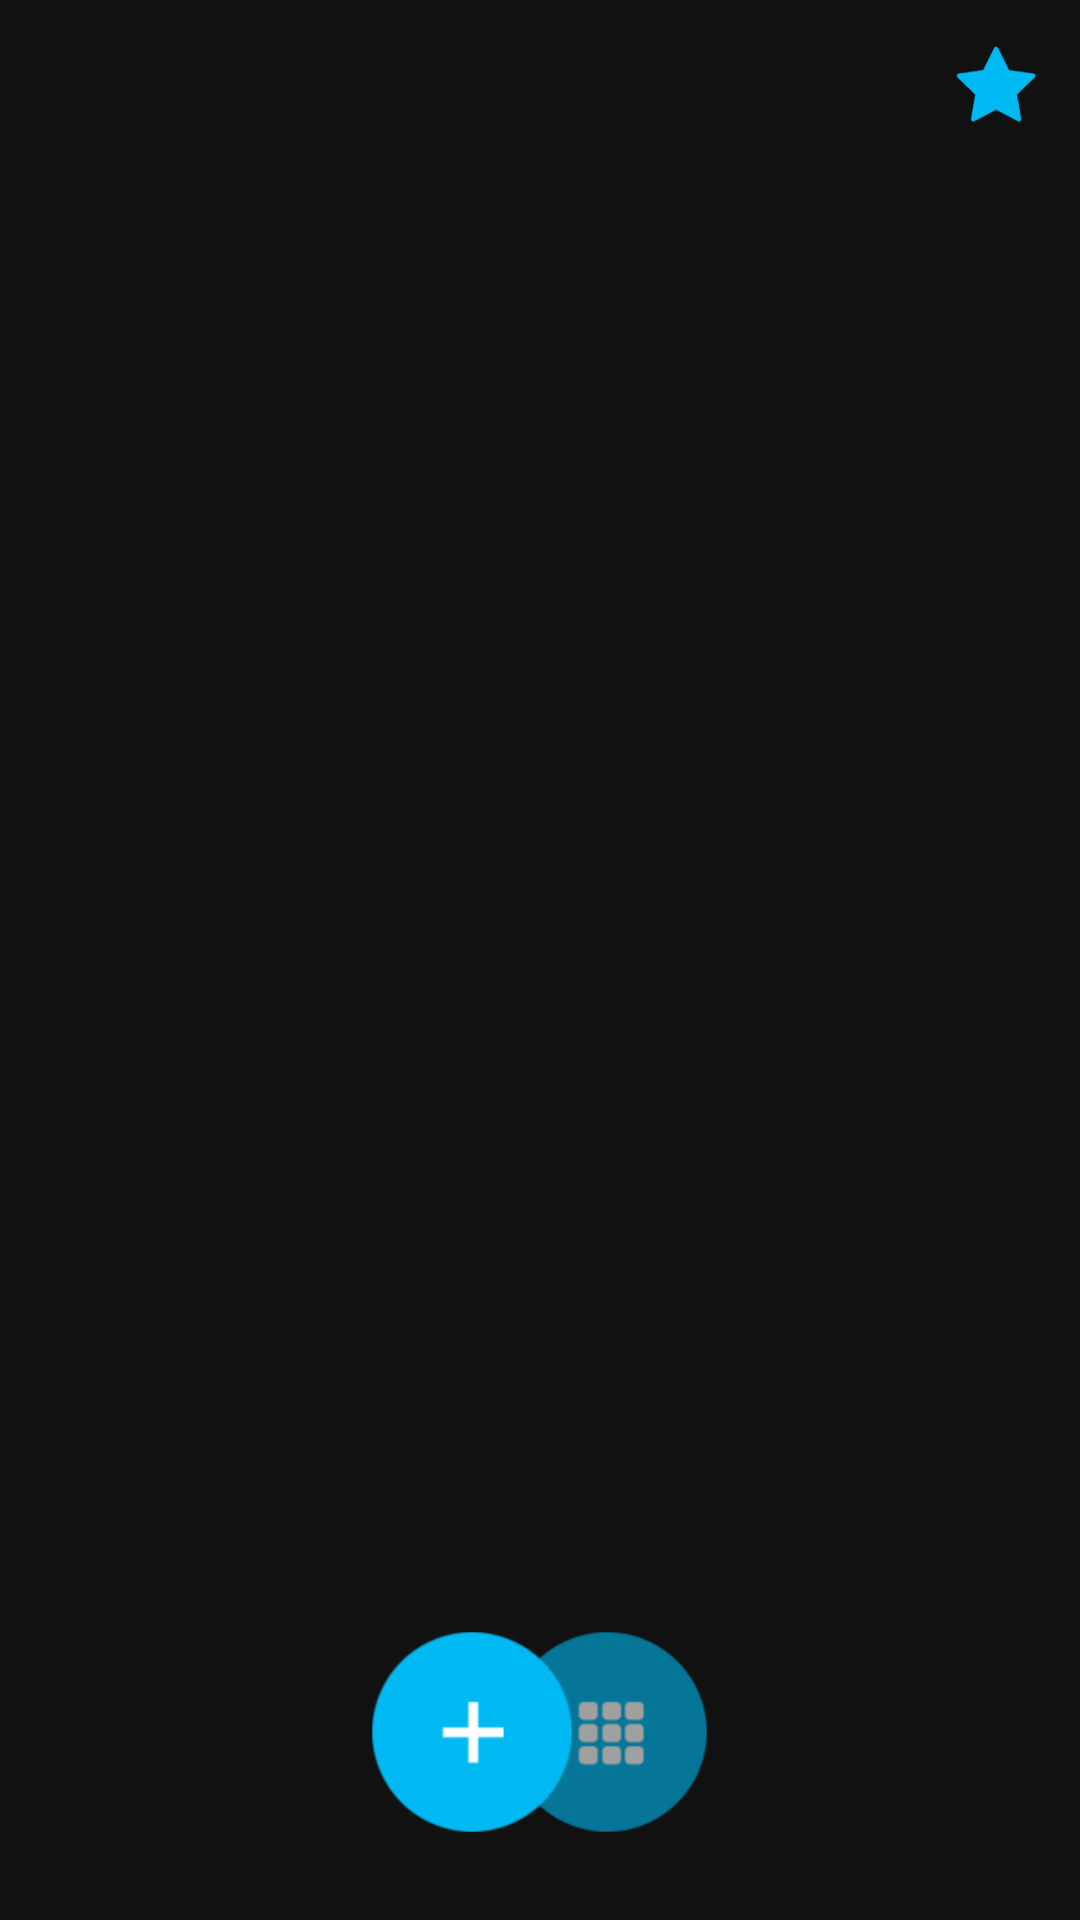

Where icons sit on this 1080 × 1920 app screen, as Rect(x1, y1, x2, y2):
create: Rect(372, 1632, 586, 1832)
